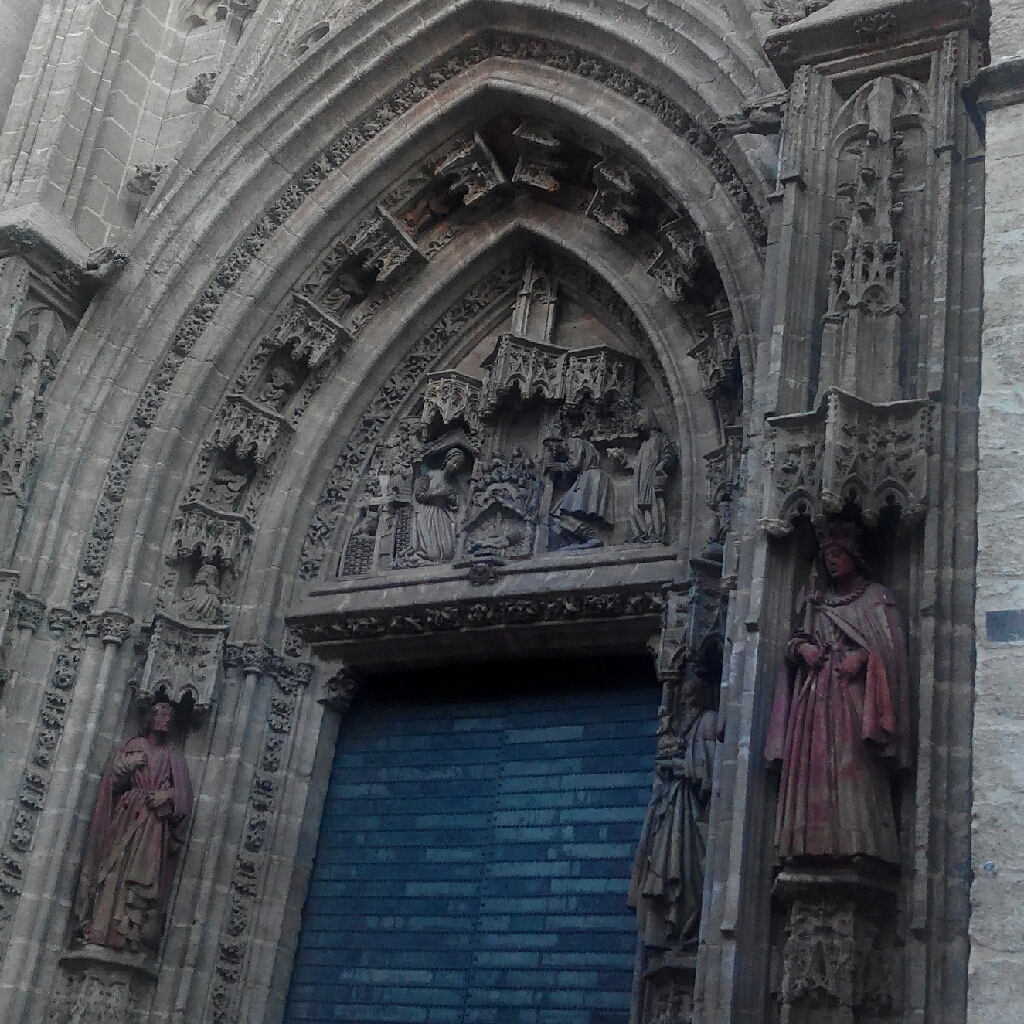arco-apuntado: (122, 56, 752, 562)
